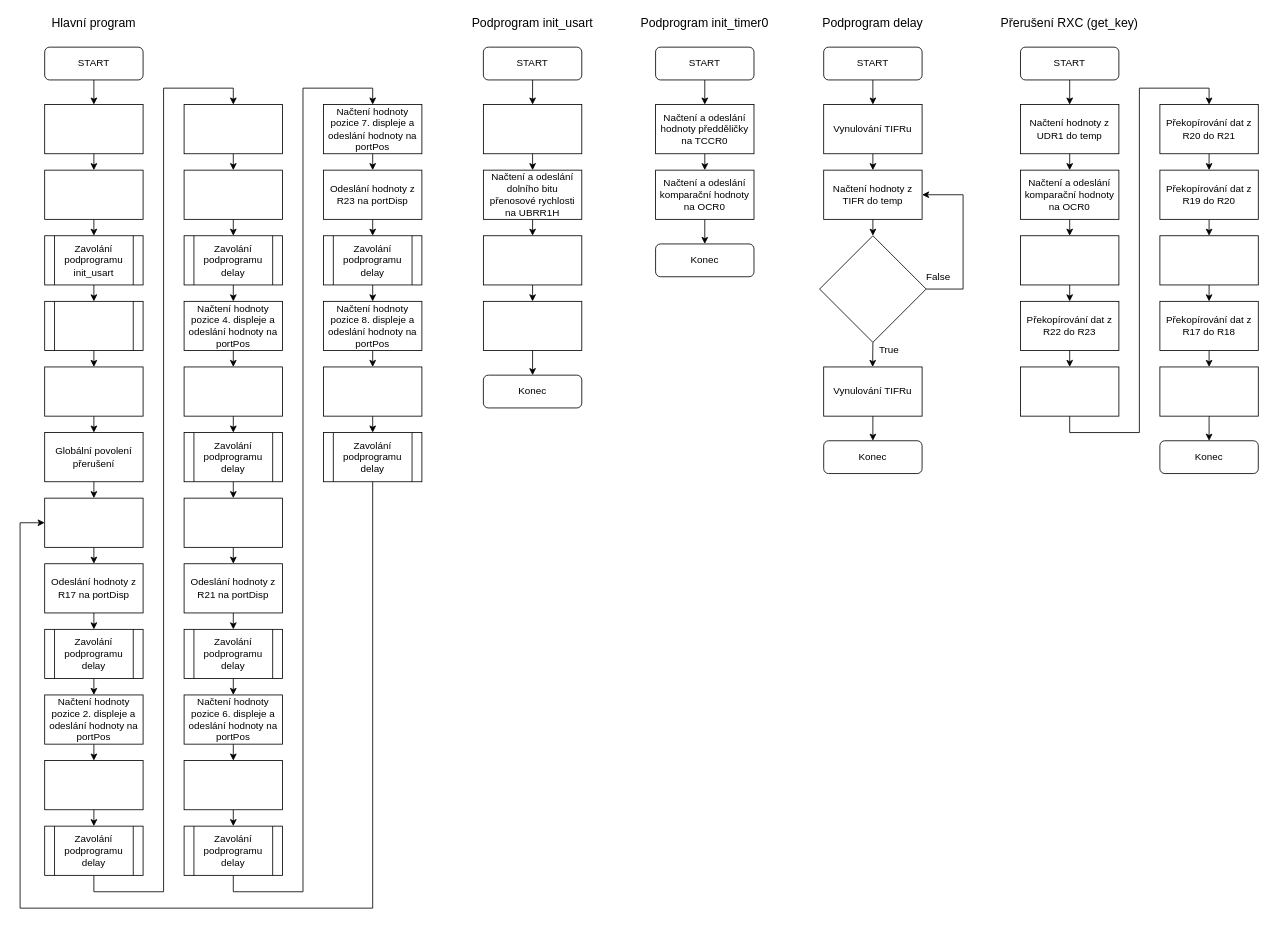
Some shapes in this 1273 by 929 pixel diagram are drawn without their labels. Here are the shapes that lost their labels. From the top down, the centre of each, then its label:
At point 93,129: "Inicializace".
At point 232,129: "Načtení hodnoty pozice 3. displeje a odeslání hodnoty na portPos".
At point 532,129: "Načtení a odeslání horního bitu přenosové rychlosti na UBRR1H".
At point 93,194: "Nastavení portů portDisp a portPos".
At point 232,194: "Odeslání hodnoty z R19 na portDisp".
At point 532,260: "Načtení a odeslání bitů RXCIE1 a RXEN1 na UCSR1B".
At point 1069,260: "Překopírování dat z R23 do R24".
At point 1208,260: "Překopírování dat z R18 do R19".
At point 872,288: "OCF0 == 1".
At point 93,326: "Zavolání podprogramu init_timer0".
At point 532,326: "Načtení a odeslání bitů UCSZ10 a UCSZ11 na UCSR1C".
At point 93,391: "Vynulování registrů R17-R24".
At point 232,391: "Odeslání hodnoty z R20 na portDisp".
At point 372,391: "Odeslání hodnoty z R24 na portDisp".
At point 1069,391: "Překopírování dat z R21 do R22".
At point 1208,391: "Překopírování dat z temp do R17".
At point 93,522: "Načtení hodnoty pozice 1. displeje a odeslání hodnoty na portPos".
At point 232,522: "Načtení hodnoty pozice 5. displeje a odeslání hodnoty na portPos".
At point 93,785: "Odeslání hodnoty z R18 na portDisp".
At point 232,785: "Odeslání hodnoty z R22 na portDisp".
